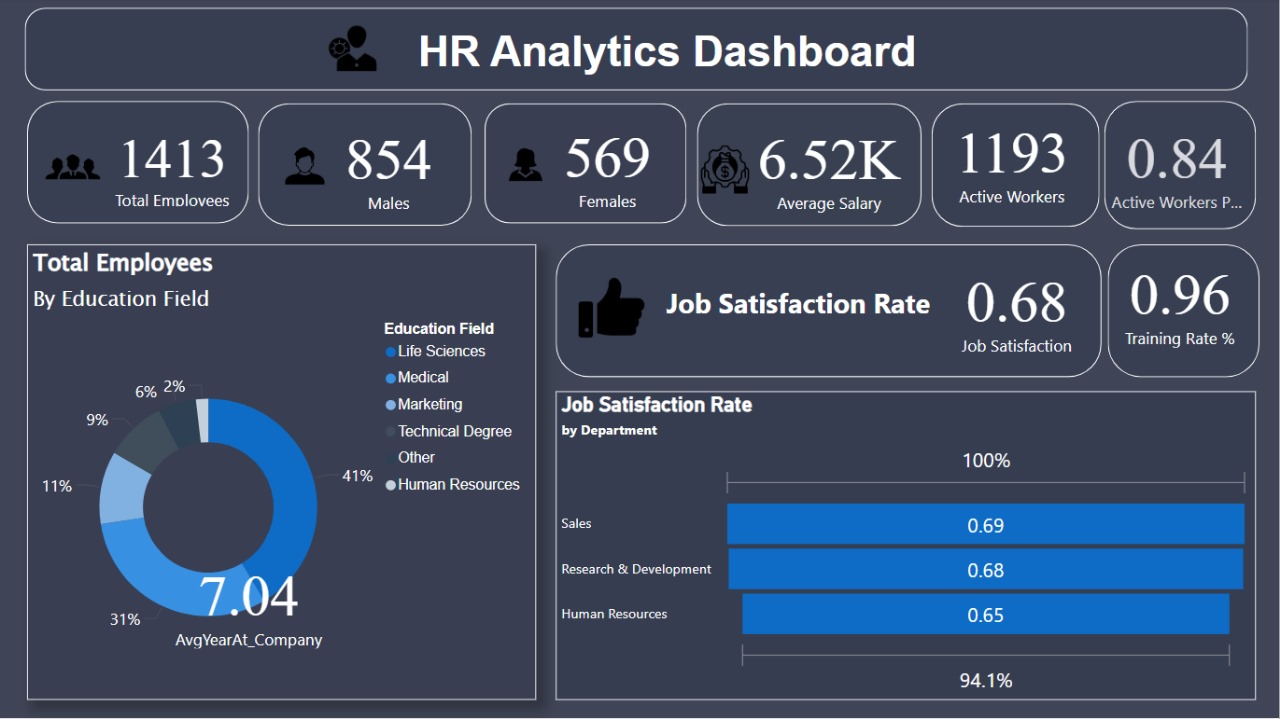

The page's visual inventory and layout, read from the dashboard file:
{"tool":"powerbi","page":{"name":"Main Dashboard","canvas":[1280,720],"ordinal":0},"visuals":[{"type":"shape","box":[30,10,1218.8,82.5],"z":0},{"type":"textbox","box":[32.5,25,1216.2,95],"z":1000},{"type":"shape","box":[488.4,105.8,201.2,119.8],"z":2000},{"type":"shape","box":[262.8,105.8,212.8,122.1],"z":3000},{"type":"shape","box":[32.6,103.5,220.9,122.1],"z":4000},{"type":"card","fields":{"Values":["HR_Analytics.Males"]},"box":[310,116.2,165,103.8],"z":5000},{"type":"card","fields":{"Values":["HR_Analytics.Females"]},"box":[543.8,116.2,133.8,98.8],"z":6000},{"type":"card","fields":{"Values":["HR_Analytics.Total Employees"]},"box":[114,119.8,126.7,94.2],"z":7000},{"type":"image","box":[285,141.2,48.8,55],"z":8000},{"type":"image","box":[32.6,137.2,91.9,64],"z":9000},{"type":"image","box":[498.8,145,60,43.8],"z":10000},{"type":"shape","box":[933.7,105.8,167.4,123.3],"z":11000},{"type":"shape","box":[700,106.2,223.8,122.5],"z":12000},{"type":"card","fields":{"Values":["HR_Analytics.Average Salary"]},"box":[742.5,112.5,177.5,110],"z":13000},{"type":"donutChart","title":"Total Employees ","fields":{"Category":["HR_Analytics.EducationField"],"Y":["HR_Analytics.Total Employees"]},"box":[32.6,246.5,507,454.7],"z":14000},{"type":"shape","box":[558.8,246.2,543.8,132.5],"z":15000},{"type":"image","box":[690,142.5,77.5,57.5],"z":16000},{"type":"textbox","box":[657.5,281.2,306.2,78.8],"z":17000},{"type":"card","fields":{"Values":["HR_Analytics.Job Satisfaction"]},"box":[941.2,251.2,156.2,117.5],"z":18000},{"type":"image","box":[573.8,272.5,83.8,75],"z":19000},{"type":"image","box":[321.2,17.5,71.2,67.5],"z":20000},{"type":"card","fields":{"Values":["HR_Analytics.Active Workers Percentage"]},"box":[1105.8,117.4,145.3,98.8],"z":22000},{"type":"card","fields":{"Values":["HR_Analytics.Active Workers"]},"box":[933.7,103.5,160.5,116.3],"z":23000},{"type":"funnel","fields":{"Category":["HR_Analytics.Department"],"Y":["HR_Analytics.Job Satisfaction Rate"]},"box":[559.3,393,697.7,308.1],"z":24000},{"type":"card","fields":{"Values":["HR_Analytics.AvgYearAt_Company"]},"box":[170,551.2,167.5,103.8],"z":25000},{"type":"shape","box":[1109.3,246.5,151.2,132.6],"z":26000},{"type":"card","fields":{"Values":["HR_Analytics.Training Rate %"]},"box":[1097.5,251.2,167.5,103.8],"z":27000},{"type":"shape","box":[1105.8,103.5,151.2,127.9],"z":28000}]}

Visuals, with their boxes in screenshot pixels (x1, y1, x2, y2), scaled from the page's 1280x720 canvas onto the 1280x719 screenshot:
shape: 30 10 1249 92
textbox: 32 25 1249 120
shape: 488 106 690 225
shape: 263 106 476 228
shape: 33 103 254 225
card - HR_Analytics.Males: 310 116 475 220
card - HR_Analytics.Females: 544 116 678 215
card - HR_Analytics.Total Employees: 114 120 241 214
image: 285 141 334 196
image: 33 137 124 201
image: 499 145 559 189
shape: 934 106 1101 229
shape: 700 106 924 228
card - HR_Analytics.Average Salary: 742 112 920 222
"Total Employees " donutChart: 33 246 540 700
shape: 559 246 1103 378
image: 690 142 768 200
textbox: 658 281 964 360
card - HR_Analytics.Job Satisfaction: 941 251 1097 368
image: 574 272 658 347
image: 321 17 392 85
card - HR_Analytics.Active Workers Percentage: 1106 117 1251 216
card - HR_Analytics.Active Workers: 934 103 1094 219
funnel - HR_Analytics.Department x HR_Analytics.Job Satisfaction Rate: 559 392 1257 700
card - HR_Analytics.AvgYearAt_Company: 170 550 338 654
shape: 1109 246 1260 379
card - HR_Analytics.Training Rate %: 1098 251 1265 355
shape: 1106 103 1257 231
